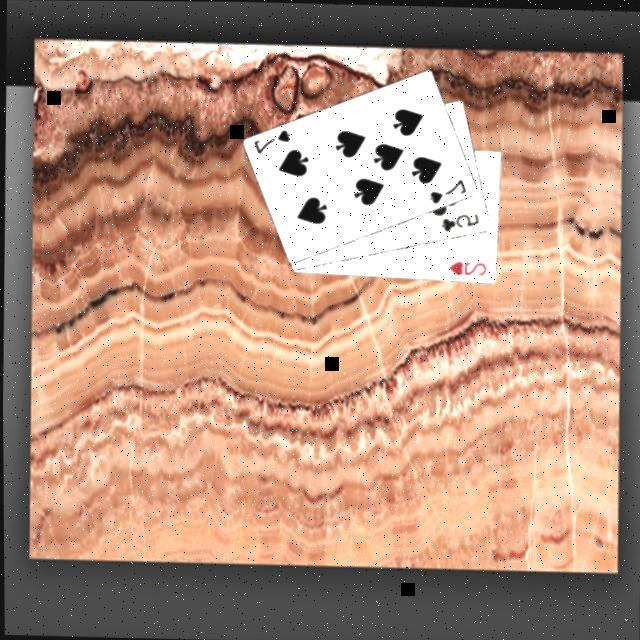2H: (443, 258, 487, 279)
5C: (436, 210, 480, 234)
7S: (423, 175, 468, 206), (248, 126, 291, 157)
